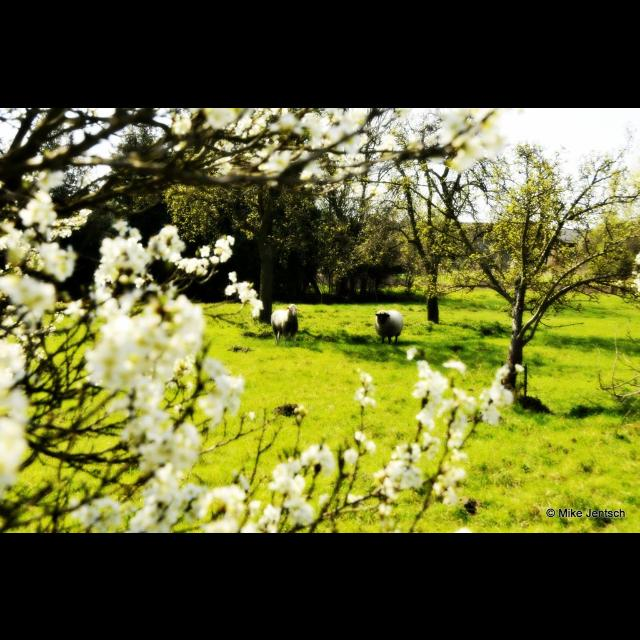Flower: (196, 360, 524, 532), (29, 187, 208, 489), (226, 269, 264, 319)
